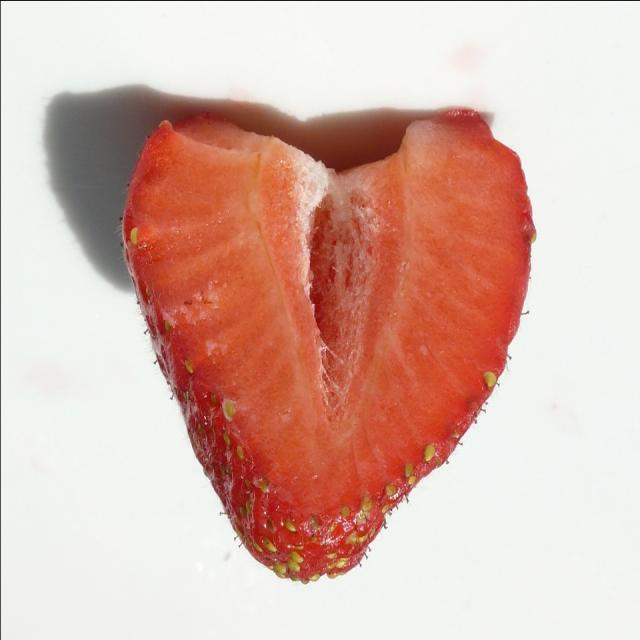strawberry: (102, 71, 568, 621)
